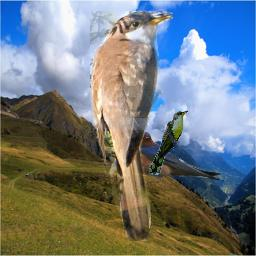Cuckoo: (90, 11, 173, 241), (149, 111, 188, 175)
Swallow: (130, 131, 231, 183)
